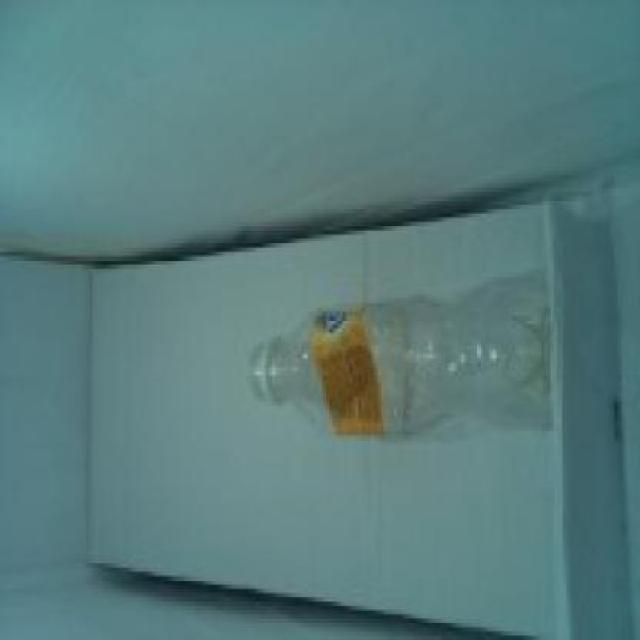Pet_Bottle: (233, 276, 550, 441)
